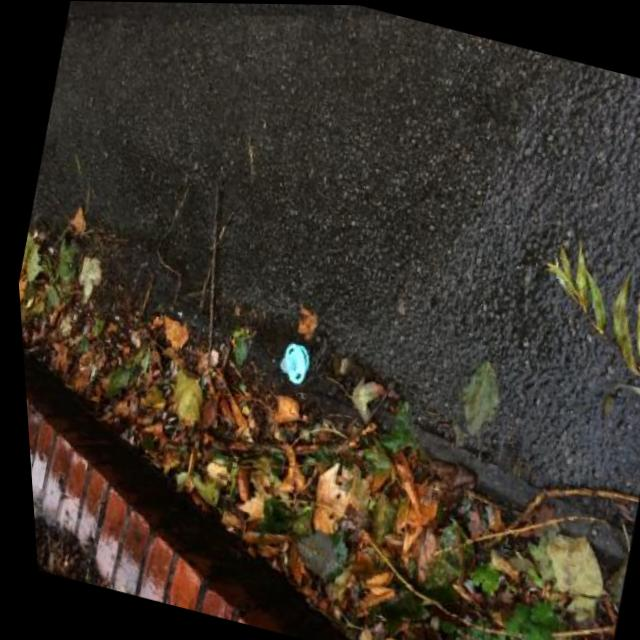plastic: (275, 340, 316, 387)
